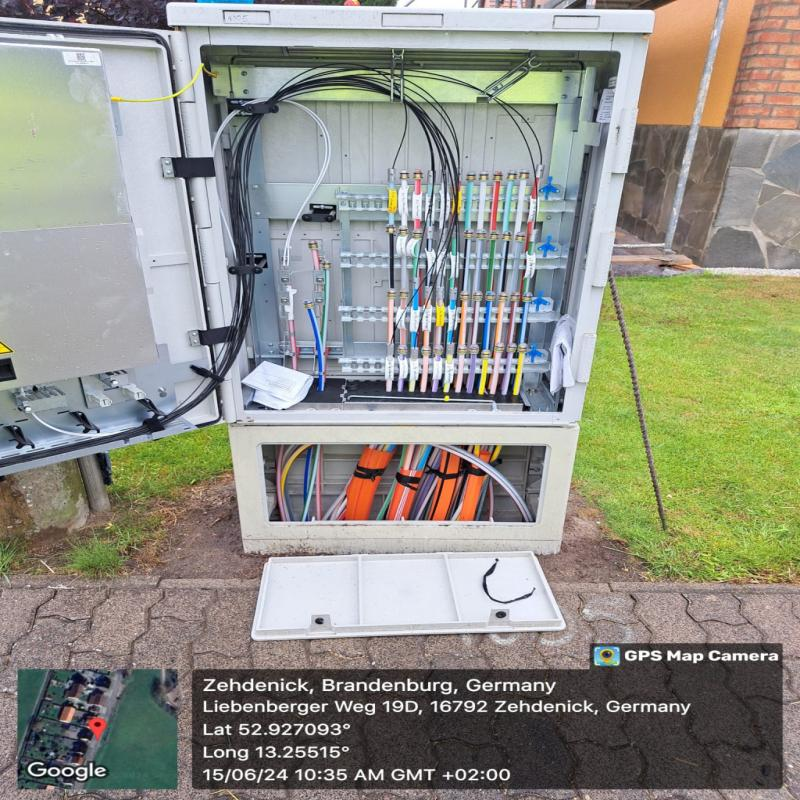NT-Gehause: (1, 7, 650, 562)
